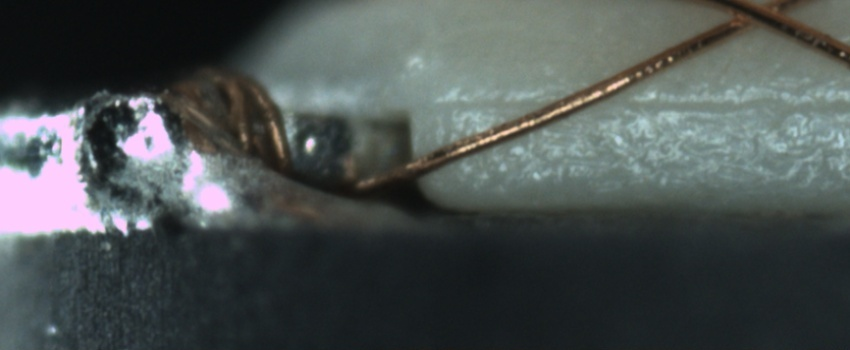CL: (716, 0, 800, 33)
DL: (434, 74, 850, 134)
TE: (206, 64, 303, 174)
